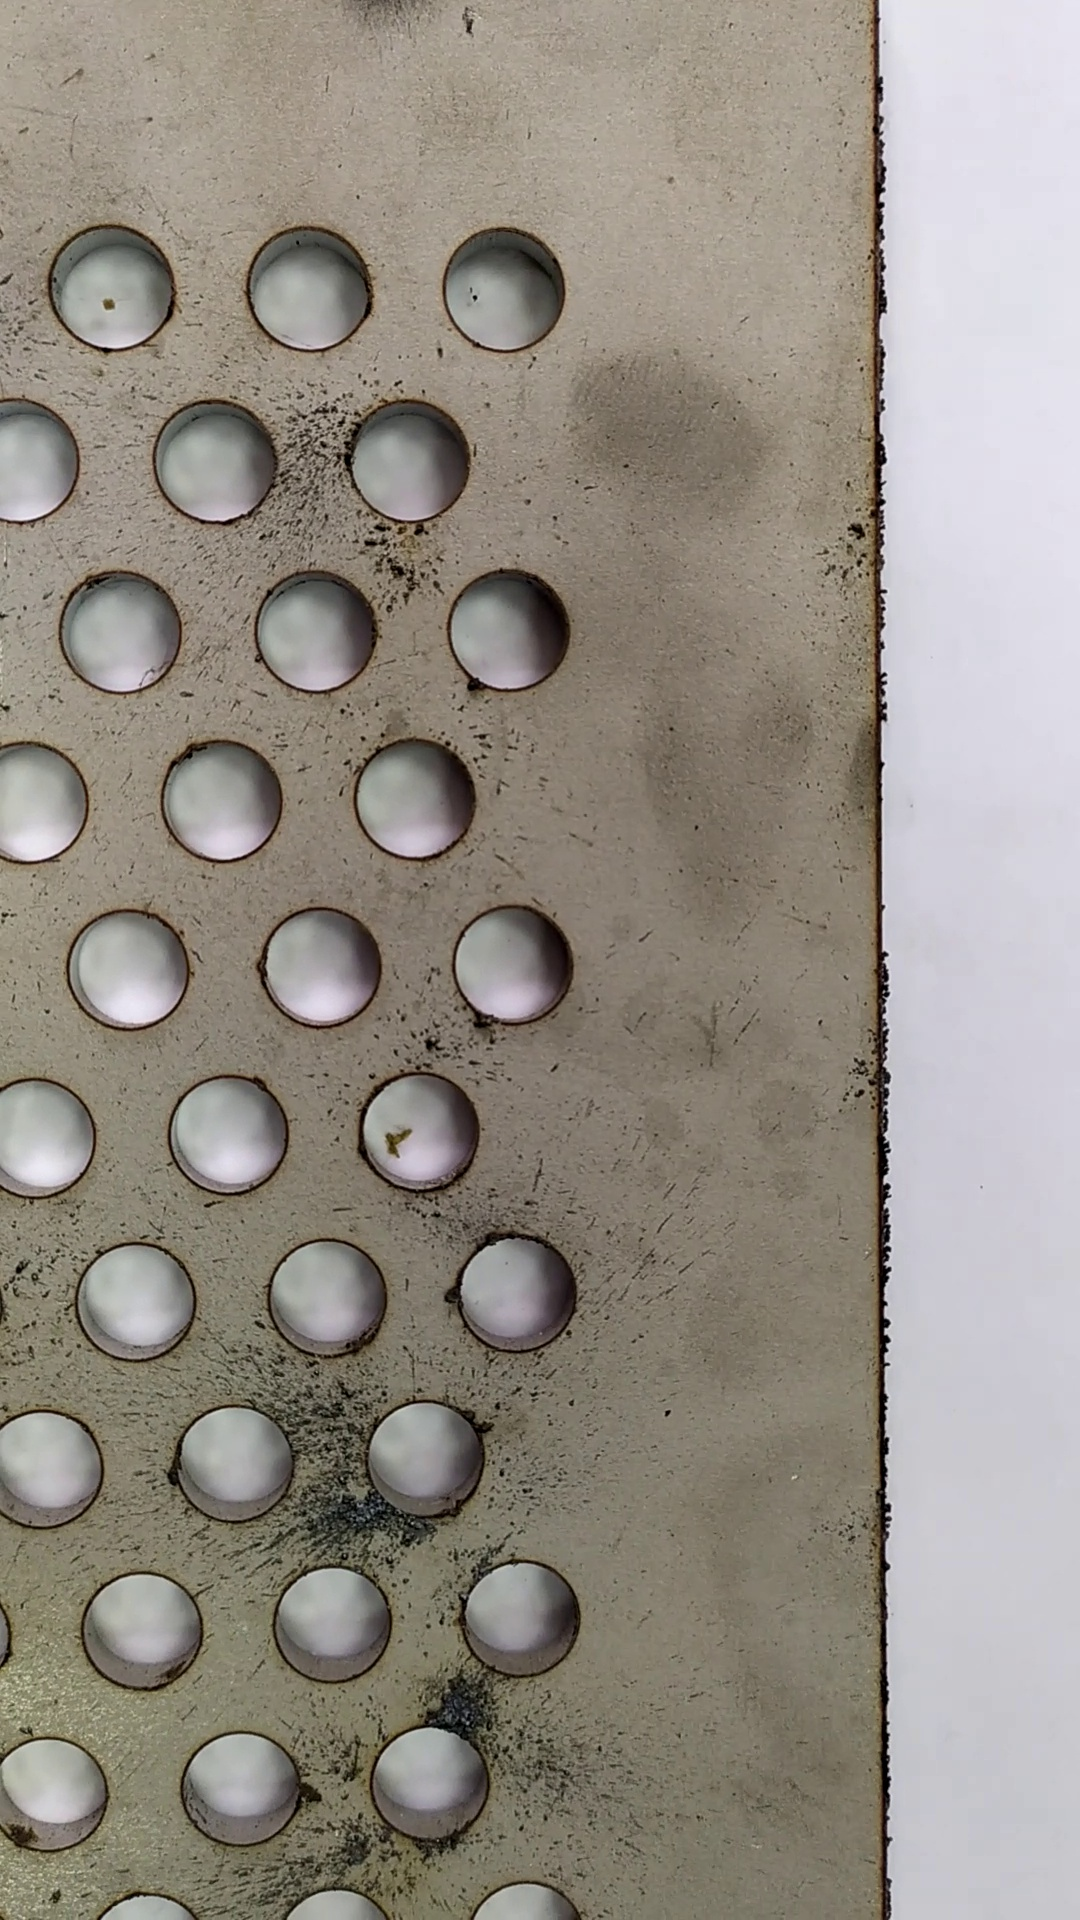Hole: (236, 203, 396, 368), (36, 208, 194, 356), (430, 553, 583, 702), (340, 1060, 498, 1201), (334, 731, 496, 868), (433, 219, 585, 364), (51, 905, 216, 1034), (71, 1556, 224, 1695), (136, 392, 291, 526), (240, 558, 392, 695), (251, 895, 394, 1038), (140, 732, 291, 866), (340, 393, 487, 531), (448, 1552, 597, 1685), (65, 1234, 208, 1370), (157, 1068, 302, 1203), (443, 1226, 589, 1360), (165, 1724, 320, 1847), (164, 1396, 305, 1532), (443, 897, 585, 1030), (367, 1709, 502, 1847), (262, 1230, 400, 1366), (55, 562, 194, 695), (359, 1391, 496, 1520), (265, 1560, 400, 1689)
